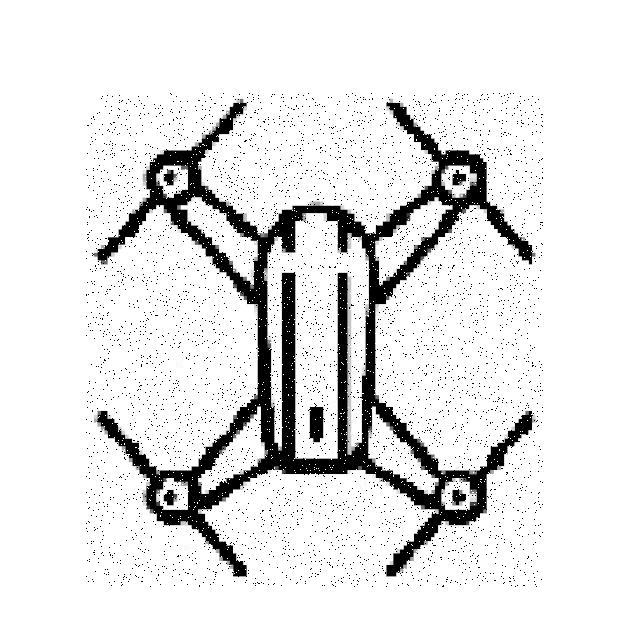drone: (87, 94, 544, 588)
